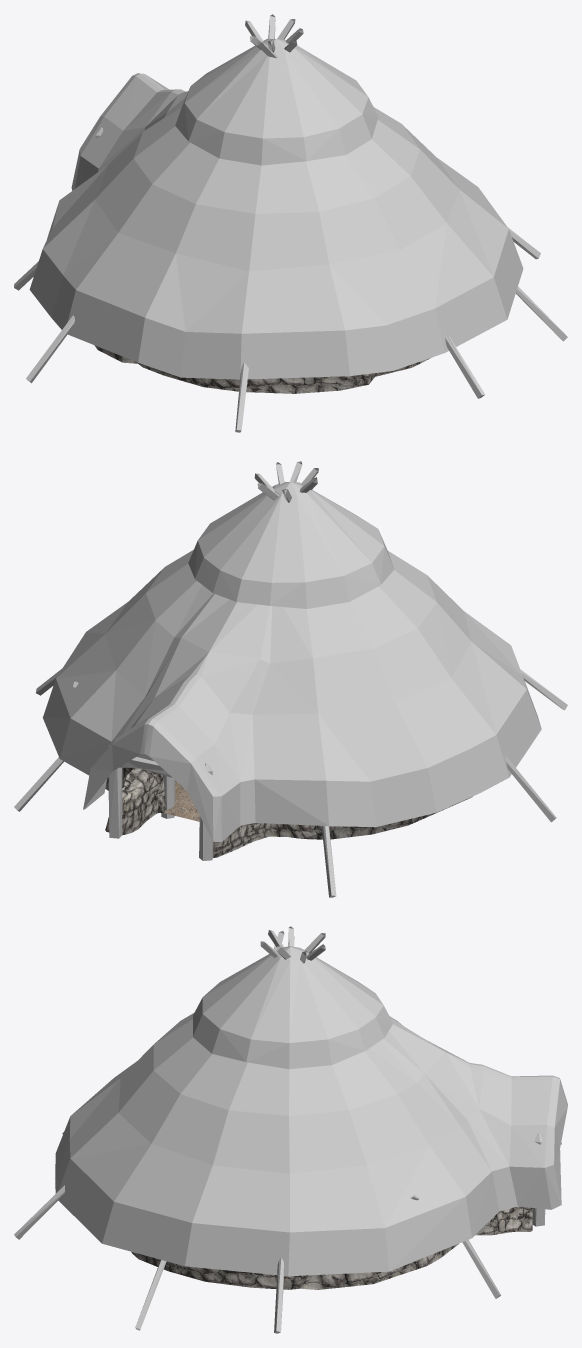
File: RoundHut_1_LOD2.fbx
3 renders of one model, top to bottom at view 1: azimuth 30°, elevation 25°; view 2: azimuth 150°, elevation 25°; view 3: azimuth 270°, elevation 25°, orthographic. The views are drawn at different scales.
Visible parts, largest first — view 1: Alpha, Wood, Stone; view 2: Alpha, Wood, Stone, Ground; view 3: Alpha, Stone, Wood.
Part boxes in pixels (x1,y1,x2,y2): Alpha: (29,38,523,379); Wood: (14,14,567,432); Stone: (94,345,430,393); Alpha: (42,482,541,842); Wood: (14,461,567,897); Stone: (105,768,472,857); Ground: (164,782,199,821); Alpha: (55,946,567,1276); Stone: (131,1206,532,1289); Wood: (14,926,545,1333).
Size of the model in its own units: 2129 by 2060 by 1211.
